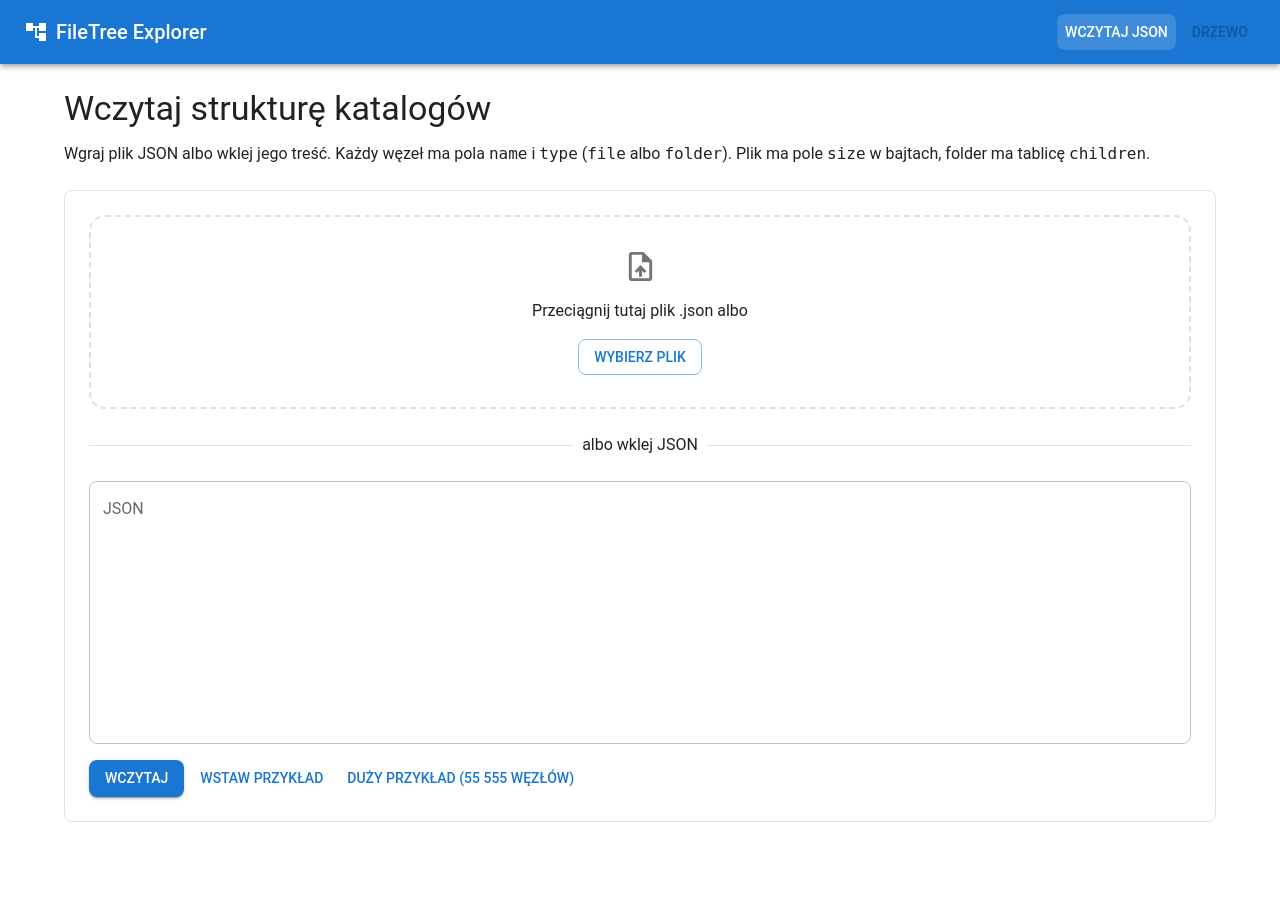
Scenario: HomePage › shows an error for empty input
This screenshot has width=1280, height=900.
Step 1. Click the button "Wczytaj" → coordinates (137, 779), box x1=89 y1=760 x2=184 y2=797
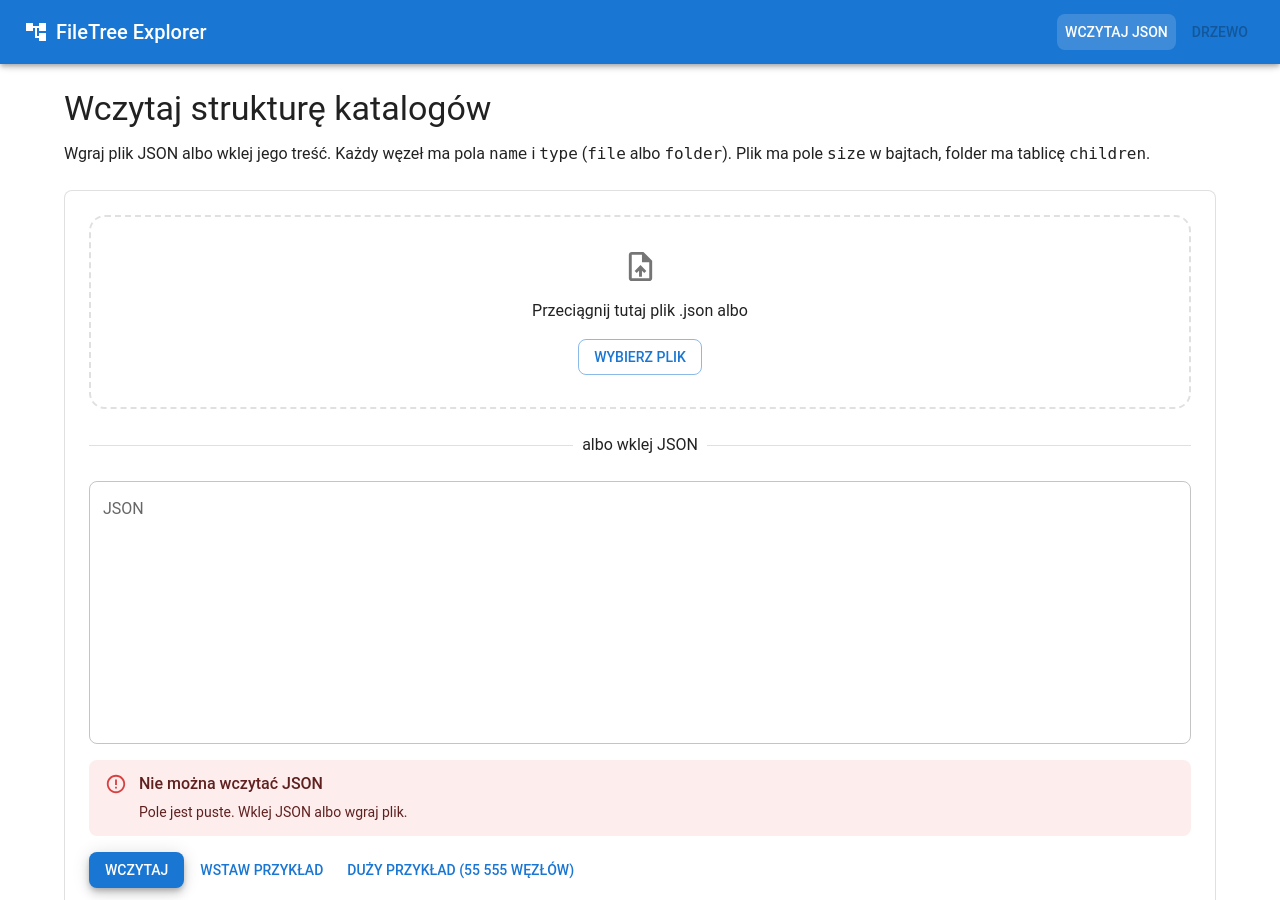
Now the message shows "Pole jest puste", box x1=139 y1=804 x2=407 y2=820
